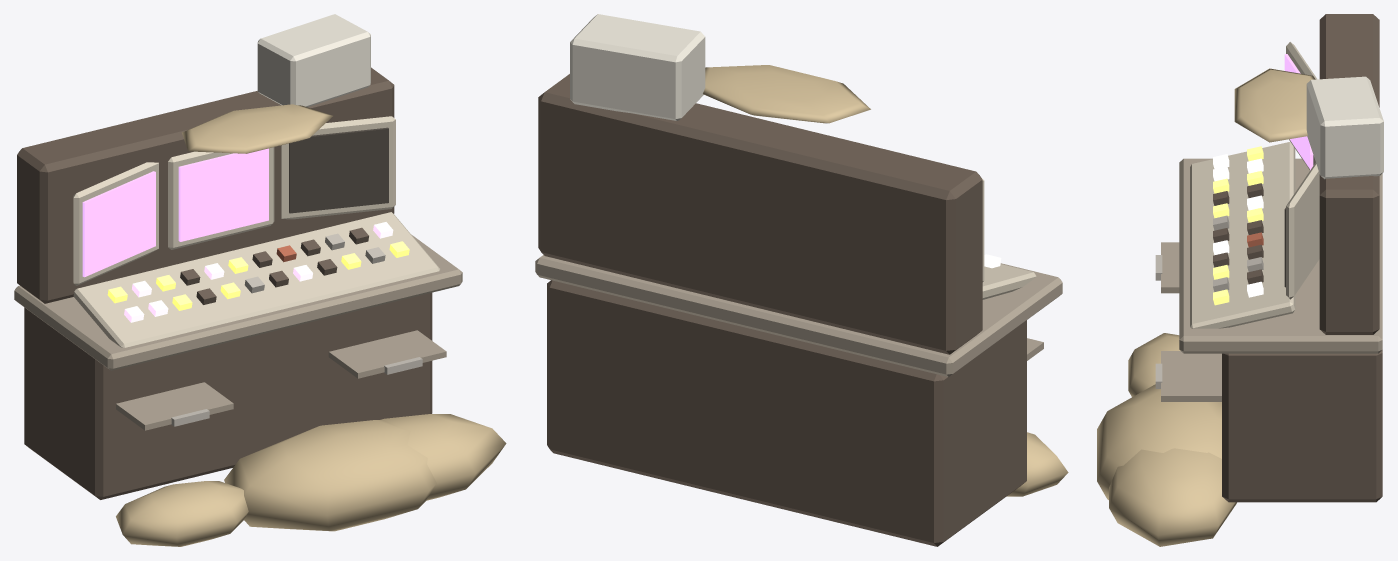
The model's file is du_console.glb.
3 renders of one model, left to right at view 1: azimuth 30°, elevation 25°; view 2: azimuth 150°, elevation 25°; view 3: azimuth 270°, elevation 25°, orthographic. The views are drawn at different scales.
Visible parts, largest first — view 1: du_console; view 2: du_console; view 3: du_console.
Part boxes in pixels (box(x1,y1,x2,y2)): du_console: box(14, 14, 506, 546); du_console: box(535, 14, 1068, 546); du_console: box(1097, 14, 1383, 546).
Bounding box in the file's own units: 2.18 × 2.2 × 1.34.
